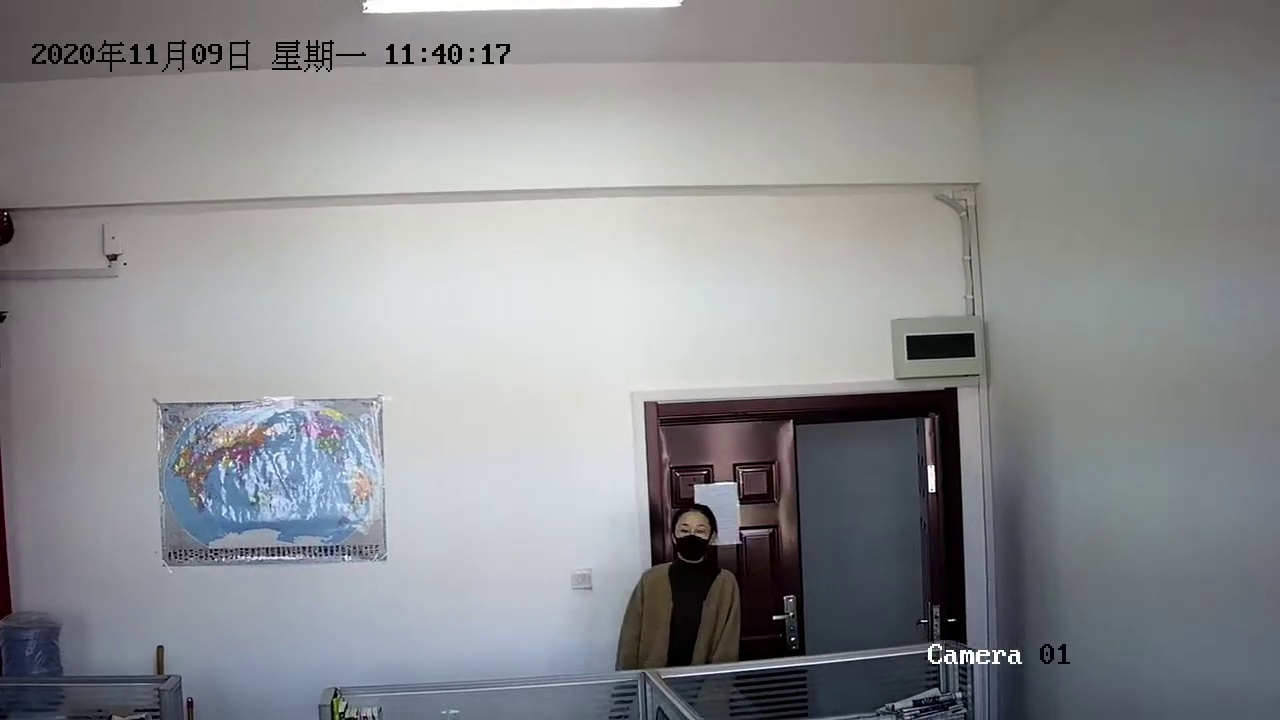mask: (672, 508, 719, 566)
